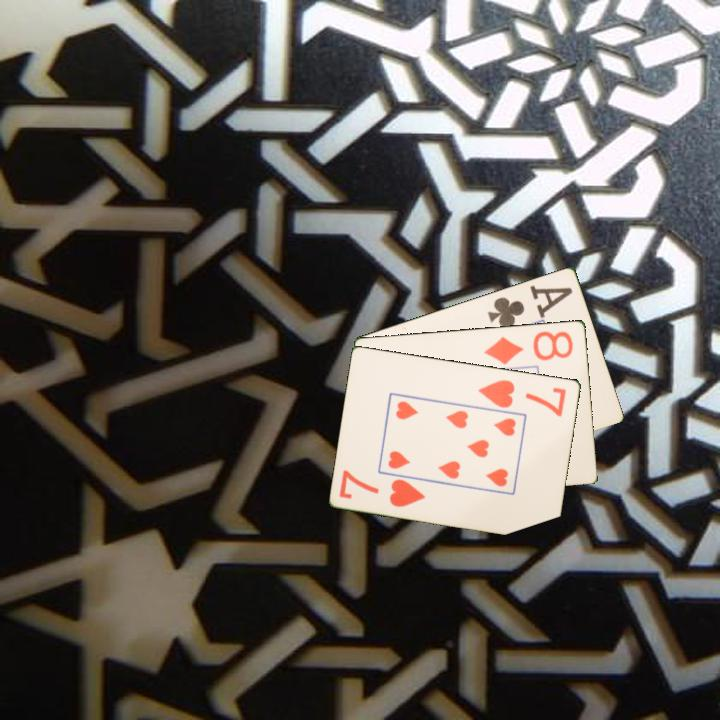7h: (475, 376, 569, 419), (336, 467, 428, 510)
8d: (481, 327, 576, 367)
Ac: (484, 281, 576, 331)
